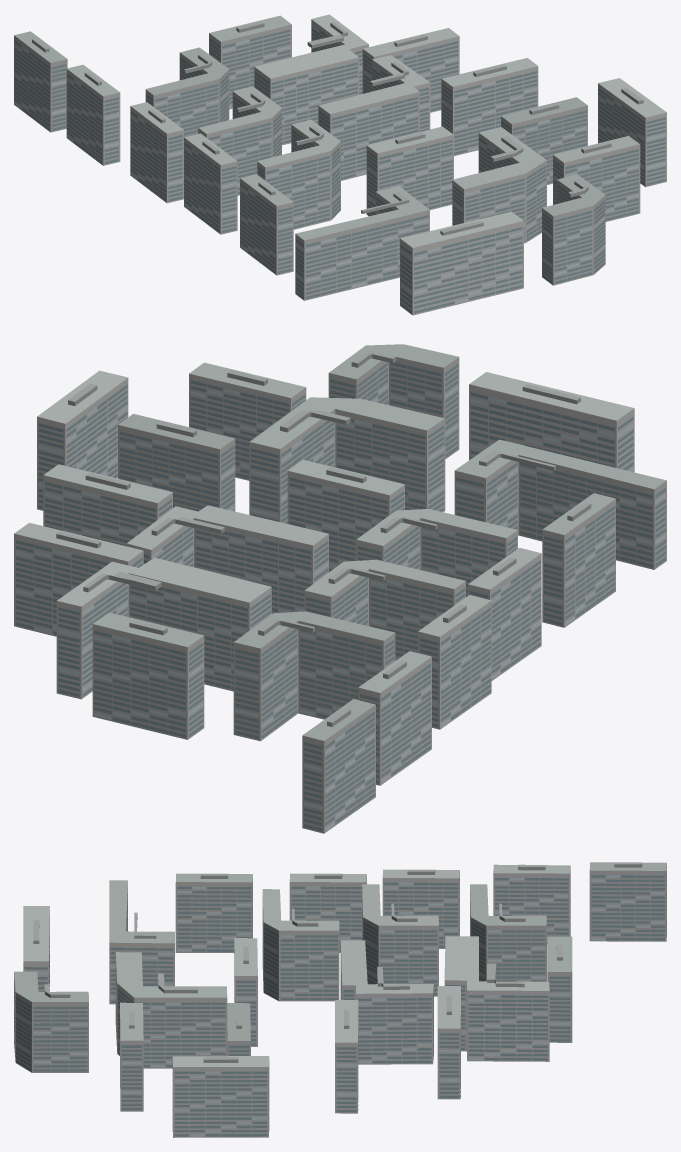
File: apt-a13201209.glb
The picture shows the model from 3 angles, top to bottom: view 1: azimuth 30°, elevation 25°; view 2: azimuth 150°, elevation 25°; view 3: azimuth 270°, elevation 25°; orthographic projection. The views are drawn at different scales.
Visible parts, largest first — view 1: apt-a13201209; view 2: apt-a13201209; view 3: apt-a13201209.
Part boxes in pixels (x1=…): apt-a13201209: x1=14, y1=14, x2=666, y2=315; apt-a13201209: x1=14, y1=344, x2=666, y2=833; apt-a13201209: x1=14, y1=862, x2=666, y2=1137.
Bounding box in the file's own units: 272 × 46 × 367.
